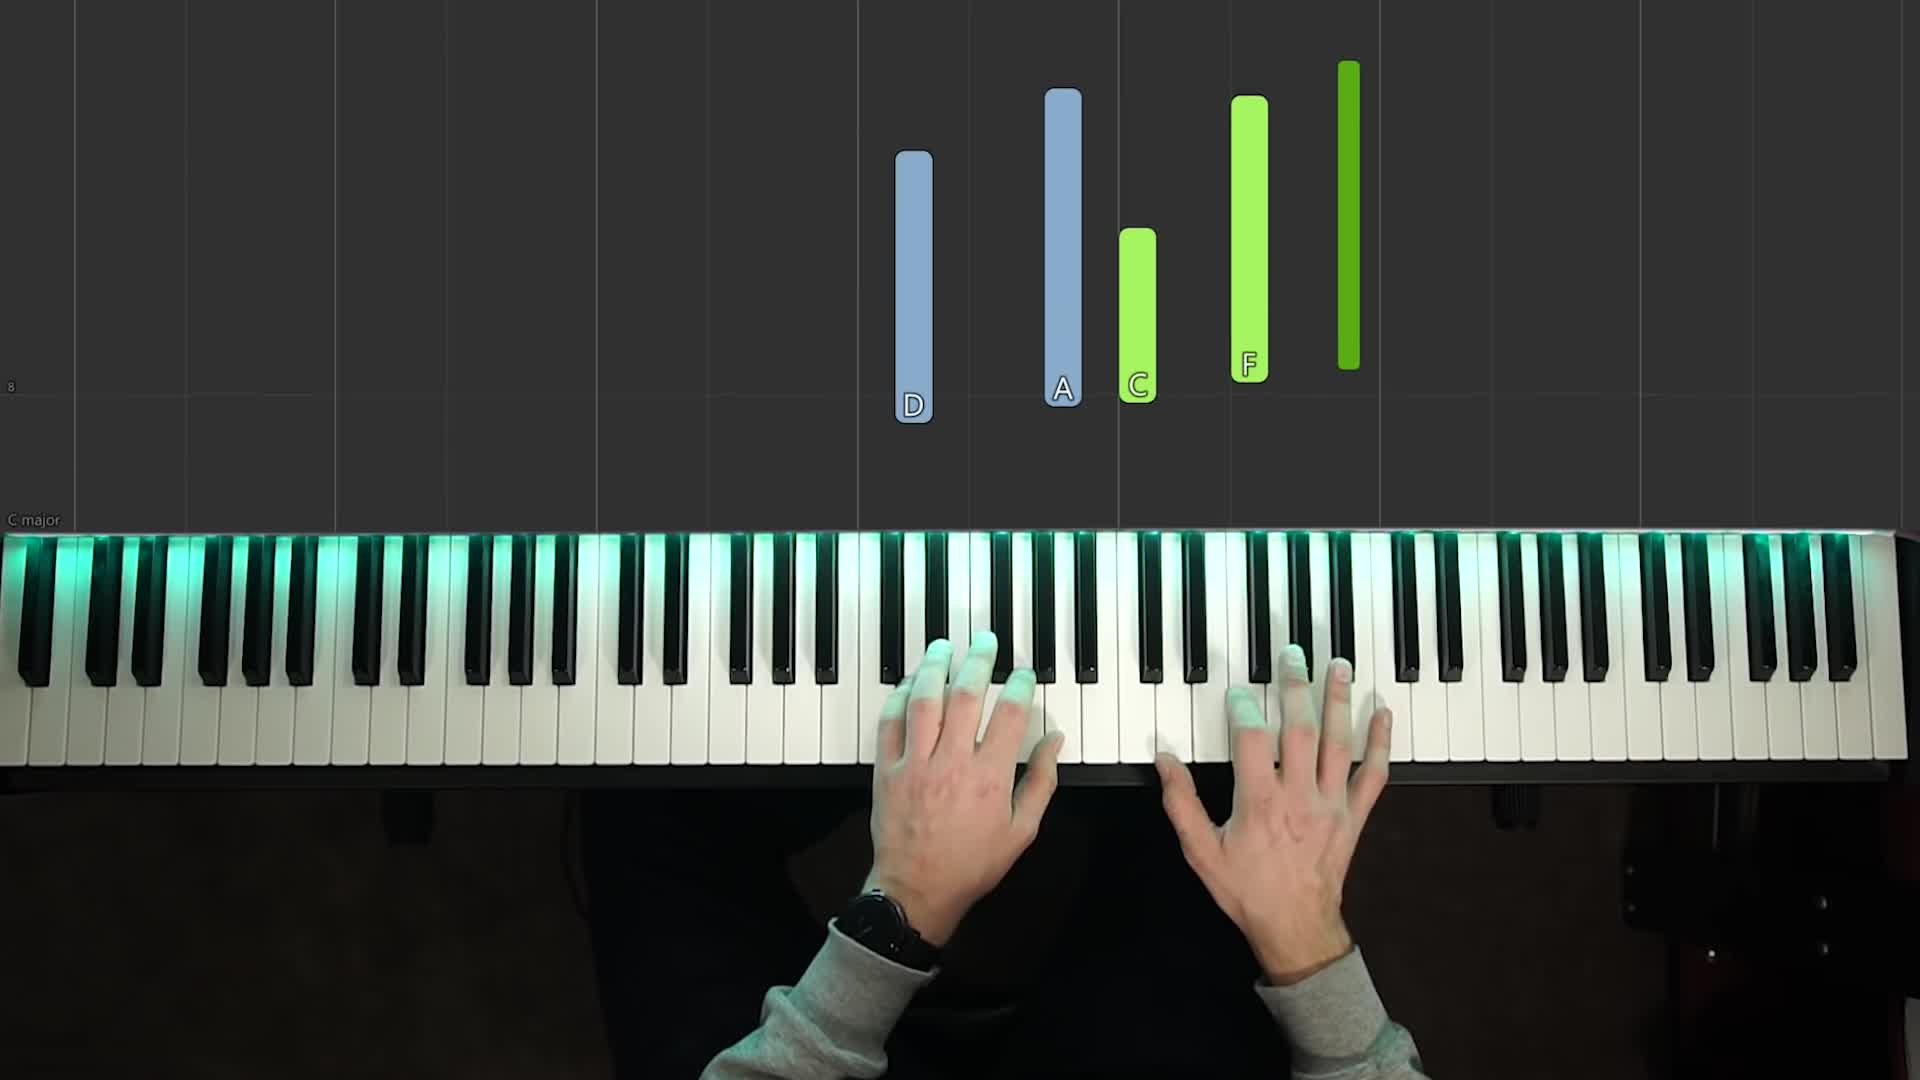left: (866, 626, 1067, 889)
right: (1153, 640, 1396, 928)
